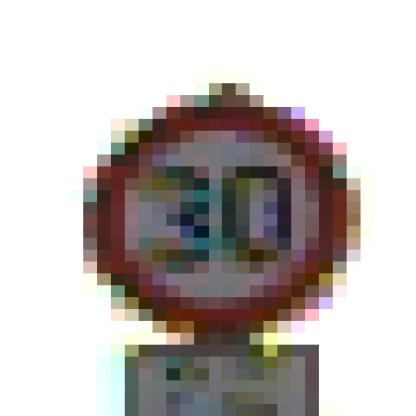Speed Limit 30: (82, 102, 348, 331)
